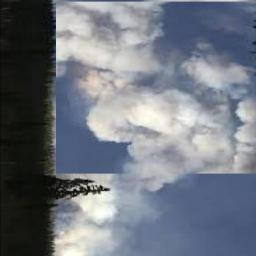Heavy smoke: (57, 0, 256, 256)
